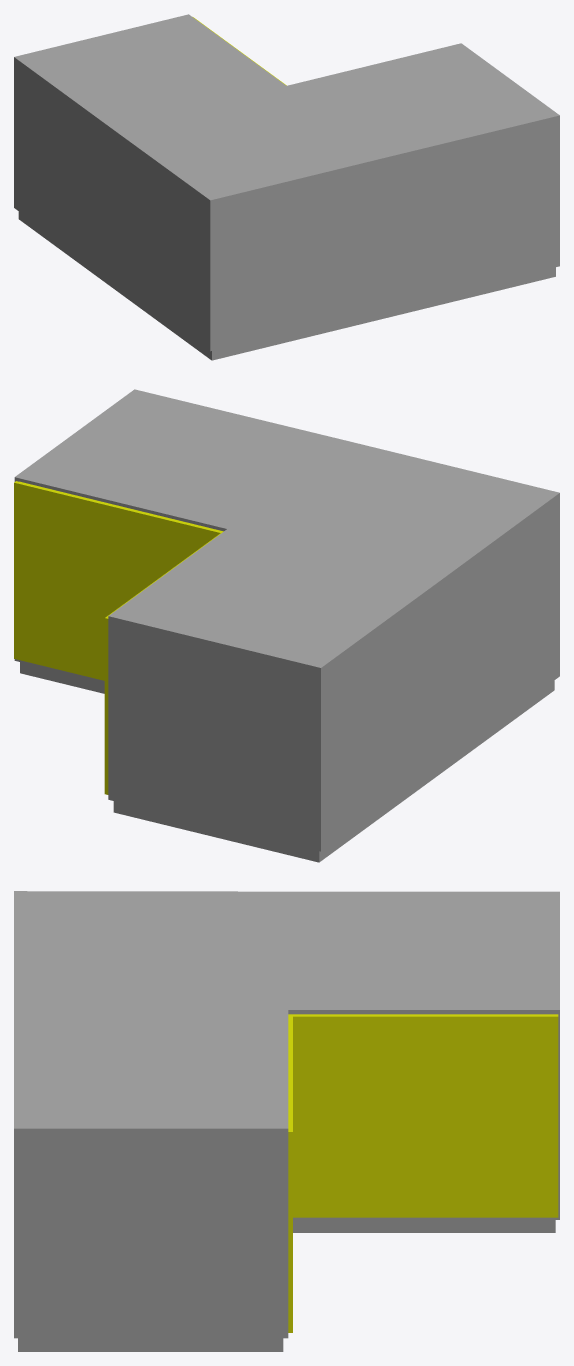
The model's file is CornerCabinet.fbx.
3 views of the same model, one above another, from view 1: azimuth 30°, elevation 25°; view 2: azimuth 150°, elevation 25°; view 3: azimuth 270°, elevation 25° (orthographic). The views are drawn at different scales.
Visible parts, largest first — view 1: CornerCabinet; view 2: CornerCabinet; view 3: CornerCabinet.
Boxes of the visible parts, x1=… form: CornerCabinet: x1=14, y1=14, x2=559, y2=360; CornerCabinet: x1=14, y1=389, x2=559, y2=862; CornerCabinet: x1=14, y1=891, x2=559, y2=1351.
Bounding box in the file's own units: 6 × 2.66 × 5.84.
